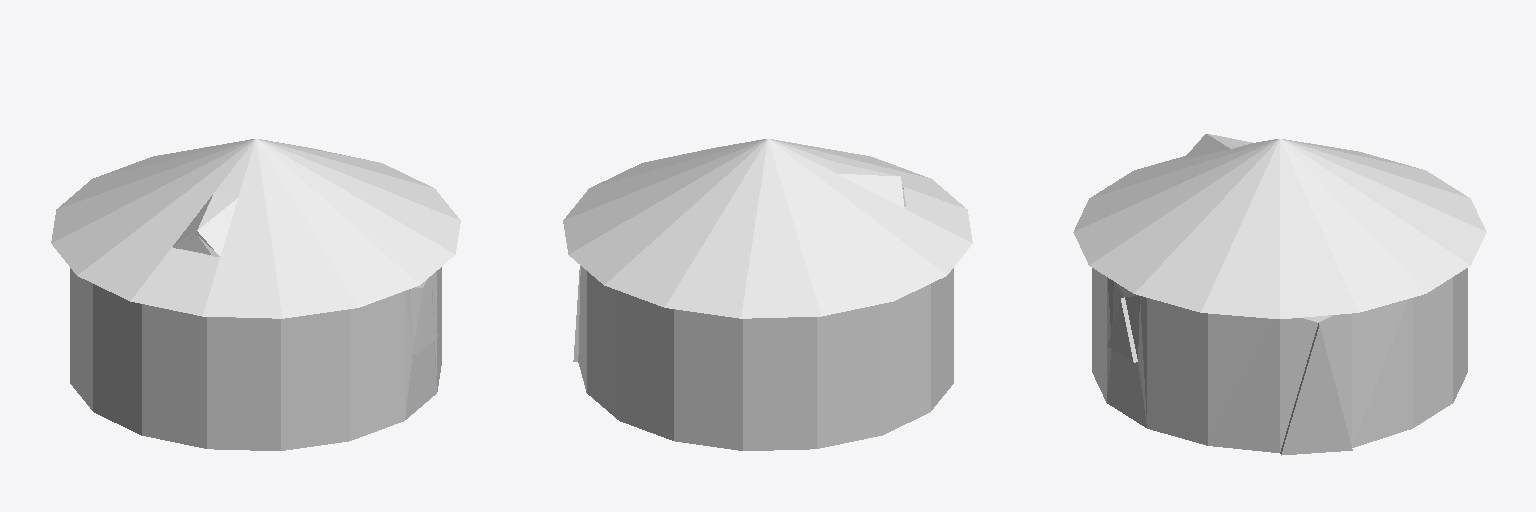
File: Yurt.obj
3 renders of one model, left to right at view 1: azimuth 30°, elevation 25°; view 2: azimuth 150°, elevation 25°; view 3: azimuth 270°, elevation 25°, orthographic.
Visible parts, largest first — view 1: Cone; view 2: Cone; view 3: Cone.
Part boxes in pixels (x1,y1,x2,y2): Cone: (51,139,460,450); Cone: (563,139,972,450); Cone: (1073,134,1486,455).
Size of the model in its own units: 4 by 2.51 by 4.